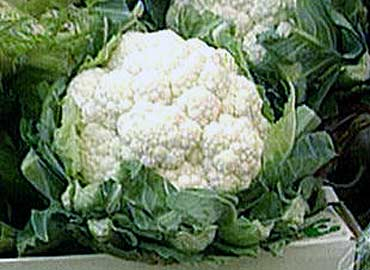cauliflower: (18, 29, 340, 257), (160, 0, 368, 65)
